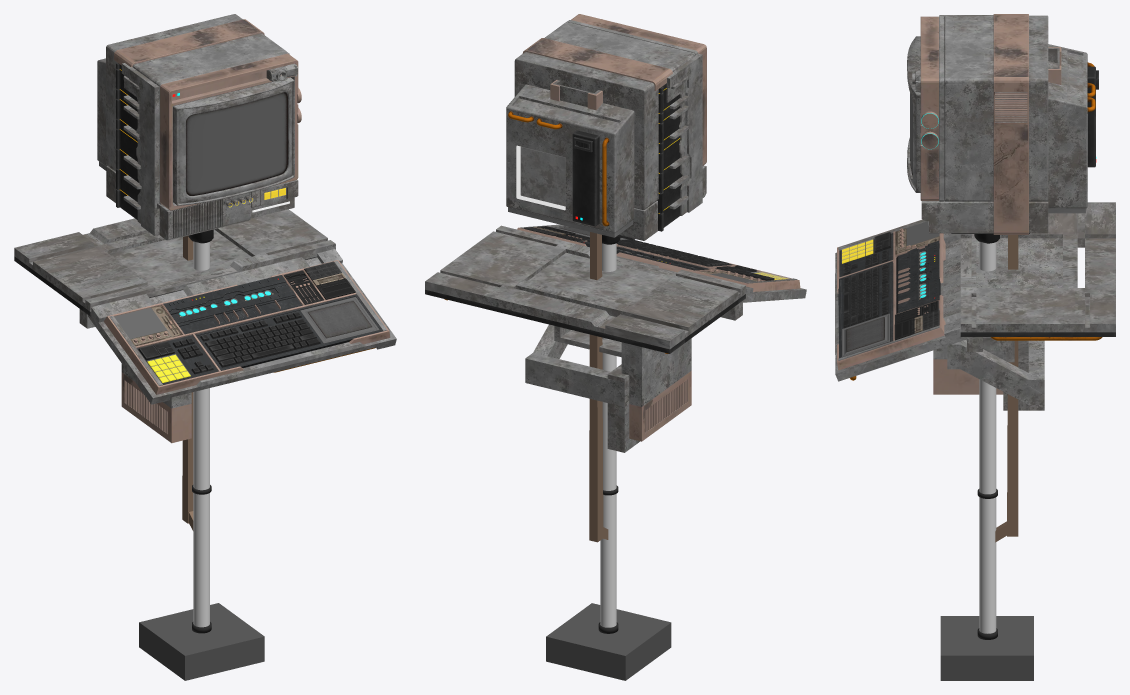
The model's file is retro_computer.mobile.glb.
The picture shows the model from 3 angles, left to right: view 1: azimuth 30°, elevation 25°; view 2: azimuth 150°, elevation 25°; view 3: azimuth 270°, elevation 25°; orthographic projection.
Parts seen in each view (by area): view 1: Object_11, Object_4, Object_5, Object_6, Object_19, Object_22, Object_8, Object_28, Object_9, Object_18, Object_26, Object_20 (+7 smaller); view 2: Object_8, Object_11, Object_19, Object_4, Object_28, Object_10, Object_6, Object_26, Object_18, Object_27, Object_7, Object_20 (+4 smaller); view 3: Object_8, Object_11, Object_4, Object_19, Object_28, Object_26, Object_22, Object_18, Object_6, Object_20, Object_9, Object_27 (+8 smaller).
Boxes of the visible parts, bbox=[...] form: Object_11: bbox=[14, 209, 335, 311]; Object_4: bbox=[114, 19, 301, 443]; Object_5: bbox=[186, 92, 371, 338]; Object_6: bbox=[106, 63, 298, 240]; Object_19: bbox=[79, 249, 396, 408]; Object_22: bbox=[137, 275, 382, 384]; Object_8: bbox=[97, 14, 285, 171]; Object_28: bbox=[139, 603, 264, 680]; Object_9: bbox=[123, 51, 294, 209]; Object_18: bbox=[14, 256, 341, 374]; Object_26: bbox=[193, 241, 209, 627]; Object_20: bbox=[103, 260, 390, 394]; Object_8: bbox=[506, 22, 695, 232]; Object_11: bbox=[425, 225, 745, 349]; Object_19: bbox=[520, 224, 806, 452]; Object_4: bbox=[522, 14, 706, 441]; Object_28: bbox=[546, 603, 671, 680]; Object_10: bbox=[572, 83, 682, 240]; Object_6: bbox=[553, 19, 706, 240]; Object_26: bbox=[600, 243, 616, 627]; Object_18: bbox=[425, 227, 774, 353]; Object_27: bbox=[589, 232, 608, 542]; Object_7: bbox=[516, 146, 789, 279]; Object_20: bbox=[517, 227, 800, 291]; Object_8: bbox=[944, 15, 1087, 208]; Object_11: bbox=[960, 202, 1115, 332]; Object_4: bbox=[920, 14, 1061, 394]; Object_19: bbox=[835, 219, 1044, 410]; Object_28: bbox=[940, 616, 1033, 680]; Object_26: bbox=[979, 241, 996, 633]; Object_22: bbox=[838, 233, 940, 358]; Object_18: bbox=[843, 232, 1115, 336]; Object_6: bbox=[912, 15, 1059, 233]; Object_20: bbox=[837, 225, 945, 370]; Object_9: bbox=[907, 15, 944, 201]; Object_27: bbox=[995, 235, 1018, 542].
Bounding box in the file's own units: 6.16 × 14.52 × 6.
25 materials, 15 textured.
